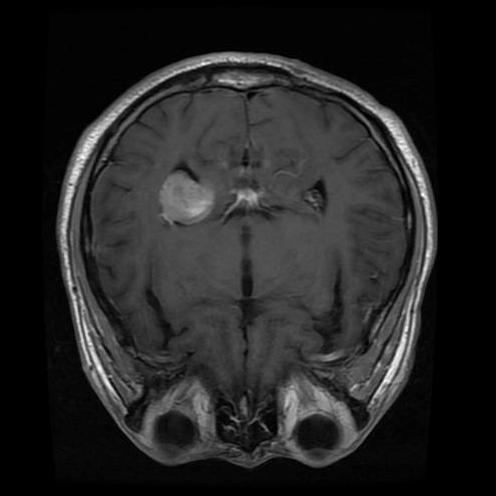Tumour-Pituitary: (136, 155, 227, 241)
